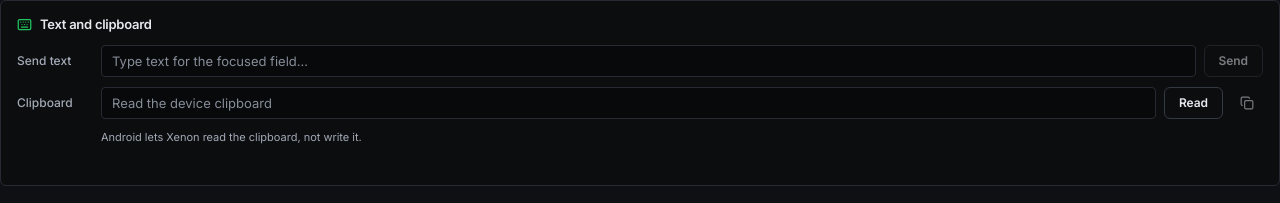
Test: Clipboard › reads the device clipboard into the field
This screenshot has width=1280, height=203.
What coordinates should you click on to do the following:
click the button "Read"
I would click on:
 (1194, 102)
Its box is [1164,86,1223,118].
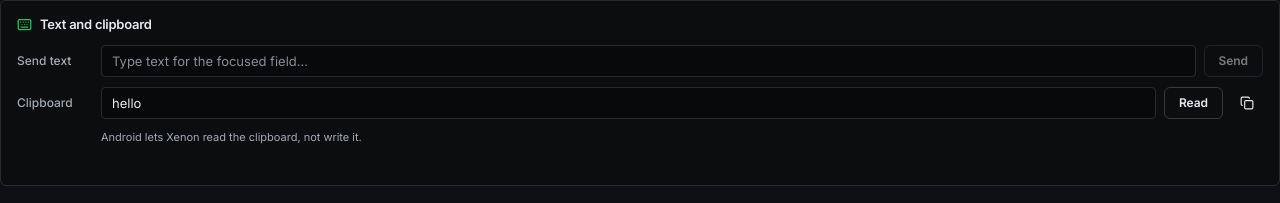
Check: the field labelled "Clipboard" holds "hello", box [101,86,1156,118]
